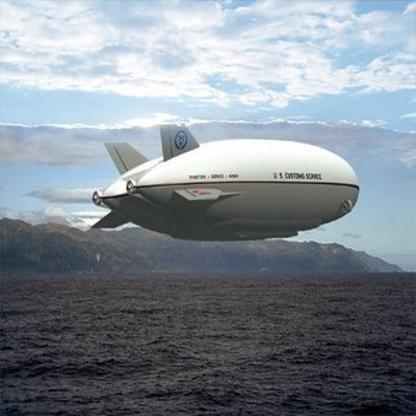Airship: (88, 124, 369, 248)
